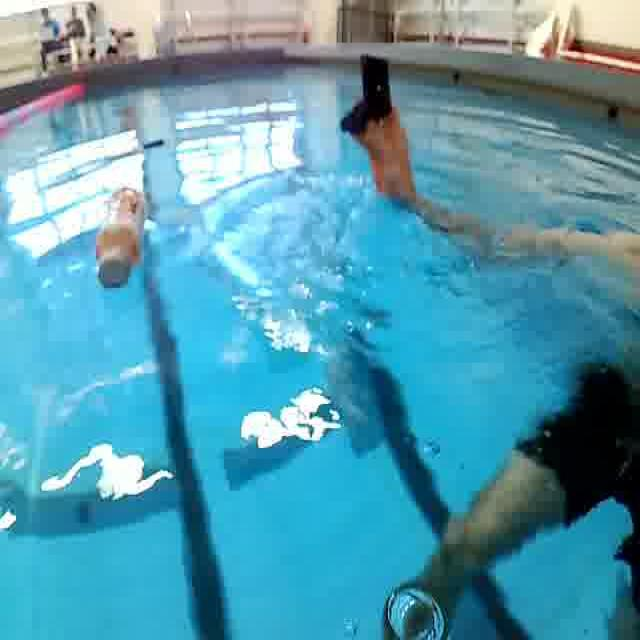Bottle: (90, 180, 151, 292)
CamMount: (334, 48, 396, 139)
